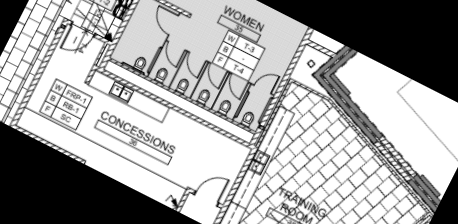door: (94, 63, 257, 152), (362, 125, 431, 190), (193, 166, 232, 205), (58, 22, 97, 61), (147, 2, 183, 39), (252, 65, 283, 94), (222, 71, 251, 102), (179, 50, 208, 80), (201, 61, 230, 90), (159, 39, 186, 67)
wall: (106, 55, 258, 137), (248, 27, 317, 147), (209, 144, 261, 224), (6, 120, 92, 167), (94, 0, 145, 77), (87, 0, 197, 22), (384, 201, 436, 224), (173, 183, 194, 213)
window: (8, 16, 71, 129)
